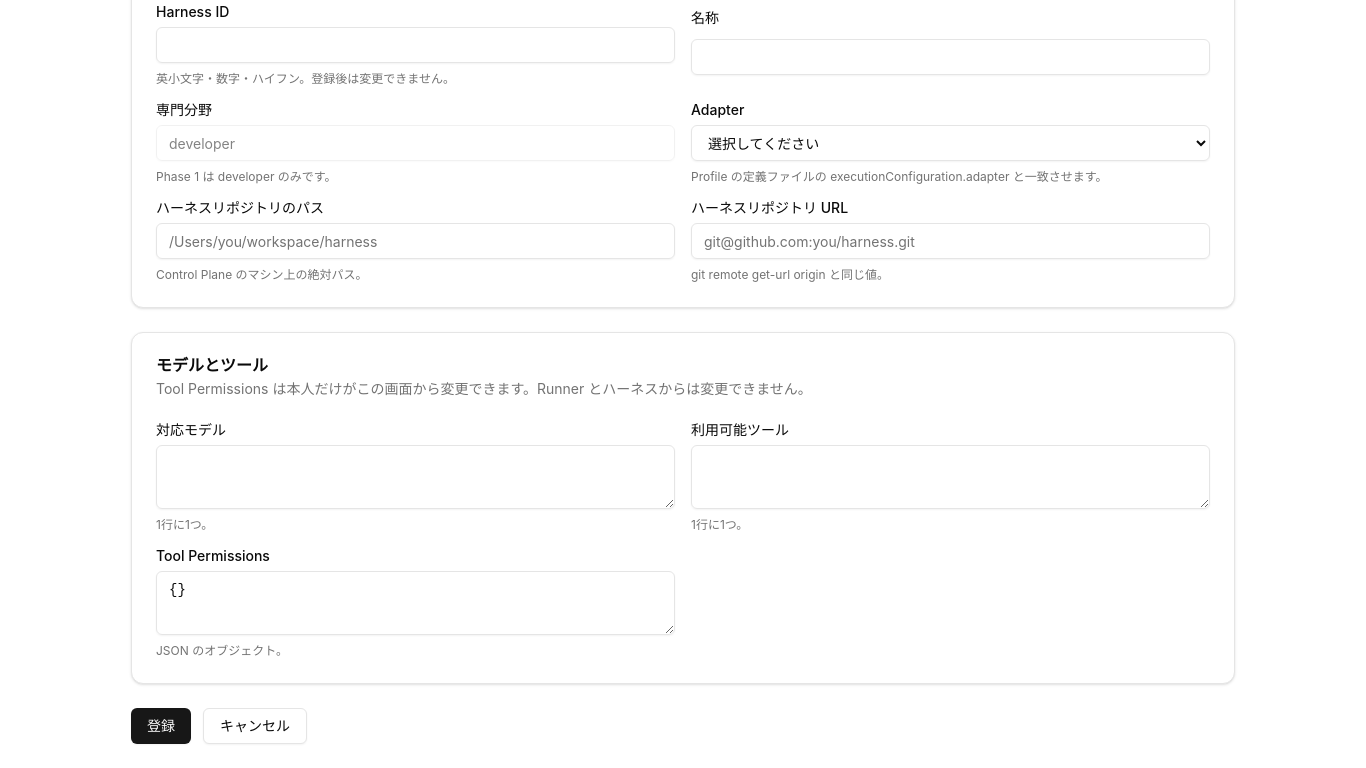
Scenario: Harness の登録 › 必須項目が空なら送信せず、項目ごとにエラーを出す
The width and height of the screenshot is (1366, 768).
(page scrolled)
Click the button "登録": (161, 726) [131, 708, 191, 744]
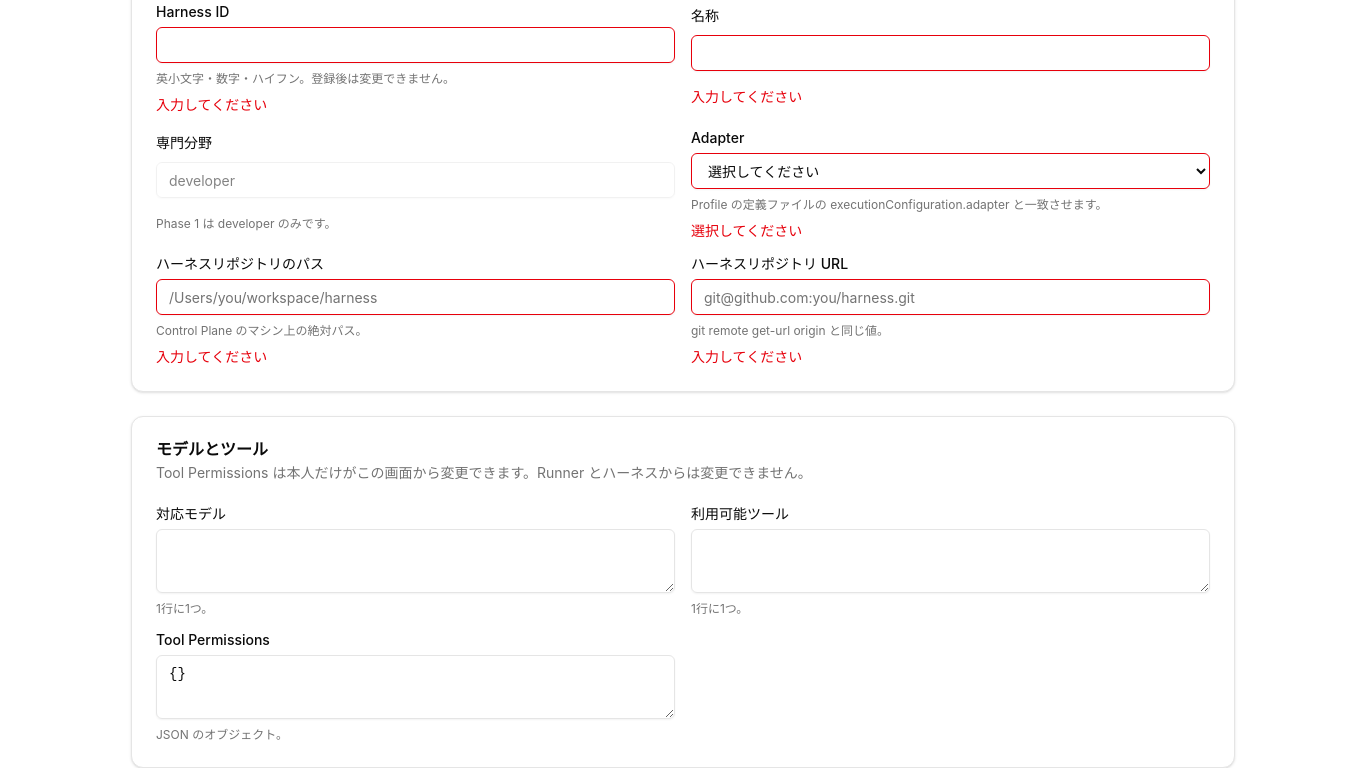
Now the text "入力してください" below "英小文字・数字・ハイフン。登録後は変更できません。" is shown, box [156, 96, 267, 113]
Now the text "入力してください" below "名称" is shown, box [691, 88, 802, 105]
Now the text "入力してください" below "Control Plane のマシン上の絶対パス。" is shown, box [156, 348, 267, 365]
